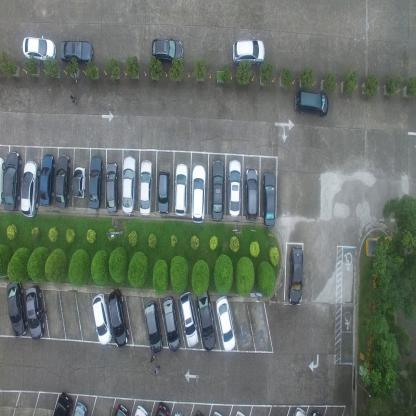car: (106, 288, 128, 348), (6, 278, 28, 337), (196, 289, 216, 352), (2, 150, 22, 212), (90, 291, 112, 347), (20, 158, 40, 219), (180, 290, 200, 349), (216, 293, 236, 352), (162, 295, 181, 353), (143, 300, 163, 355), (25, 285, 45, 340), (22, 33, 57, 63), (294, 89, 328, 118), (288, 246, 304, 306), (60, 37, 93, 66), (121, 153, 136, 216), (54, 152, 70, 210), (227, 158, 242, 219), (232, 38, 264, 66), (88, 154, 104, 210), (211, 158, 225, 220), (152, 37, 184, 64), (39, 154, 55, 208), (244, 166, 259, 222), (192, 163, 206, 223), (262, 171, 276, 228), (139, 160, 153, 216), (175, 161, 188, 217), (105, 161, 119, 213), (71, 164, 87, 200), (158, 167, 170, 214), (51, 390, 73, 415), (0, 155, 6, 208), (74, 402, 88, 416), (114, 402, 129, 415), (156, 402, 170, 415), (133, 404, 149, 415), (292, 407, 308, 415)
